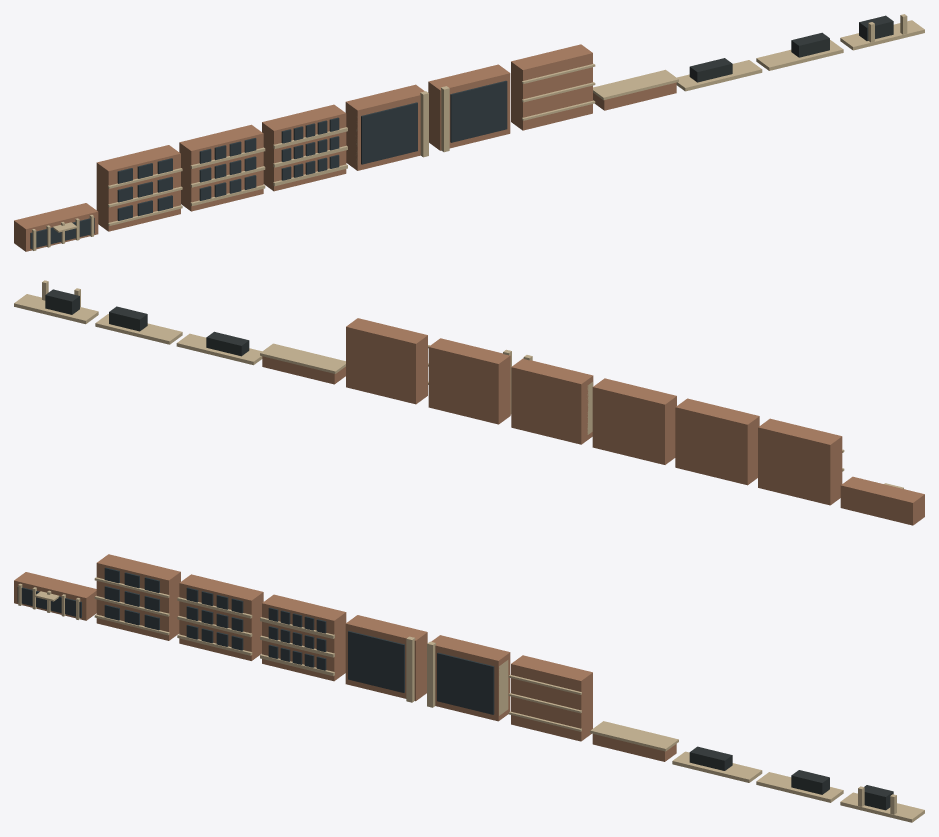
The model's file is narrow-storefront-row.glb.
The picture shows the model from 3 angles, top to bottom: view 1: azimuth 30°, elevation 25°; view 2: azimuth 150°, elevation 25°; view 3: azimuth 330°, elevation 25°; orthographic projection.
Parts seen in each view (by area): view 1: middle-wall (×3), front-glass (×2), corner-wall (×2), party-wall, cornice (×3), roof-house (×3), base-shell, shoulder-cap, corner-pier (×2), shoulder, recessed-ground-floor; view 2: middle-wall (×3), corner-wall (×2), party-wall, base-shell, cornice (×3), roof-house (×3), shoulder-cap, shoulder; view 3: middle-wall (×3), front-glass (×2), party-wall, corner-wall (×2), cornice (×3), roof-house (×3), base-shell, shoulder-cap, corner-pier (×2), shoulder, recessed-ground-floor.
Part boxes in pixels (left/top/right/bottom): middle-wall (×3): left=96, top=104, right=346, bottom=231; front-glass (×2): left=361, top=80, right=507, bottom=164; corner-wall (×2): left=345, top=64, right=510, bottom=170; party-wall: left=511, top=44, right=592, bottom=130; cornice (×3): left=676, top=20, right=924, bottom=91; roof-house (×3): left=689, top=15, right=893, bottom=82; base-shell: left=14, top=203, right=98, bottom=251; shoulder-cap: left=593, top=69, right=678, bottom=100; corner-pier (×2): left=420, top=86, right=449, bottom=157; shoulder: left=593, top=82, right=676, bottom=110; recessed-ground-floor: left=30, top=218, right=94, bottom=248; middle-wall (×3): left=592, top=378, right=842, bottom=505; corner-wall (×2): left=428, top=338, right=593, bottom=444; party-wall: left=346, top=318, right=427, bottom=404; base-shell: left=840, top=476, right=924, bottom=525; cornice (×3): left=14, top=294, right=262, bottom=365; roof-house (×3): left=45, top=289, right=249, bottom=356; shoulder-cap: left=260, top=343, right=345, bottom=373; shoulder: left=262, top=356, right=345, bottom=384; middle-wall (×3): left=96, top=554, right=346, bottom=681; front-glass (×2): left=348, top=631, right=494, bottom=714; party-wall: left=511, top=655, right=592, bottom=741; corner-wall (×2): left=345, top=615, right=510, bottom=721; cornice (×3): left=672, top=751, right=924, bottom=822; roof-house (×3): left=689, top=746, right=893, bottom=810; base-shell: left=14, top=572, right=96, bottom=620; shoulder-cap: left=590, top=721, right=678, bottom=751; corner-pier (×2): left=406, top=636, right=435, bottom=707; shoulder: left=592, top=734, right=676, bottom=761; recessed-ground-floor: left=17, top=586, right=81, bottom=617.
Bounding box in the file's own units: 43.49 × 2.9 × 1.53.
